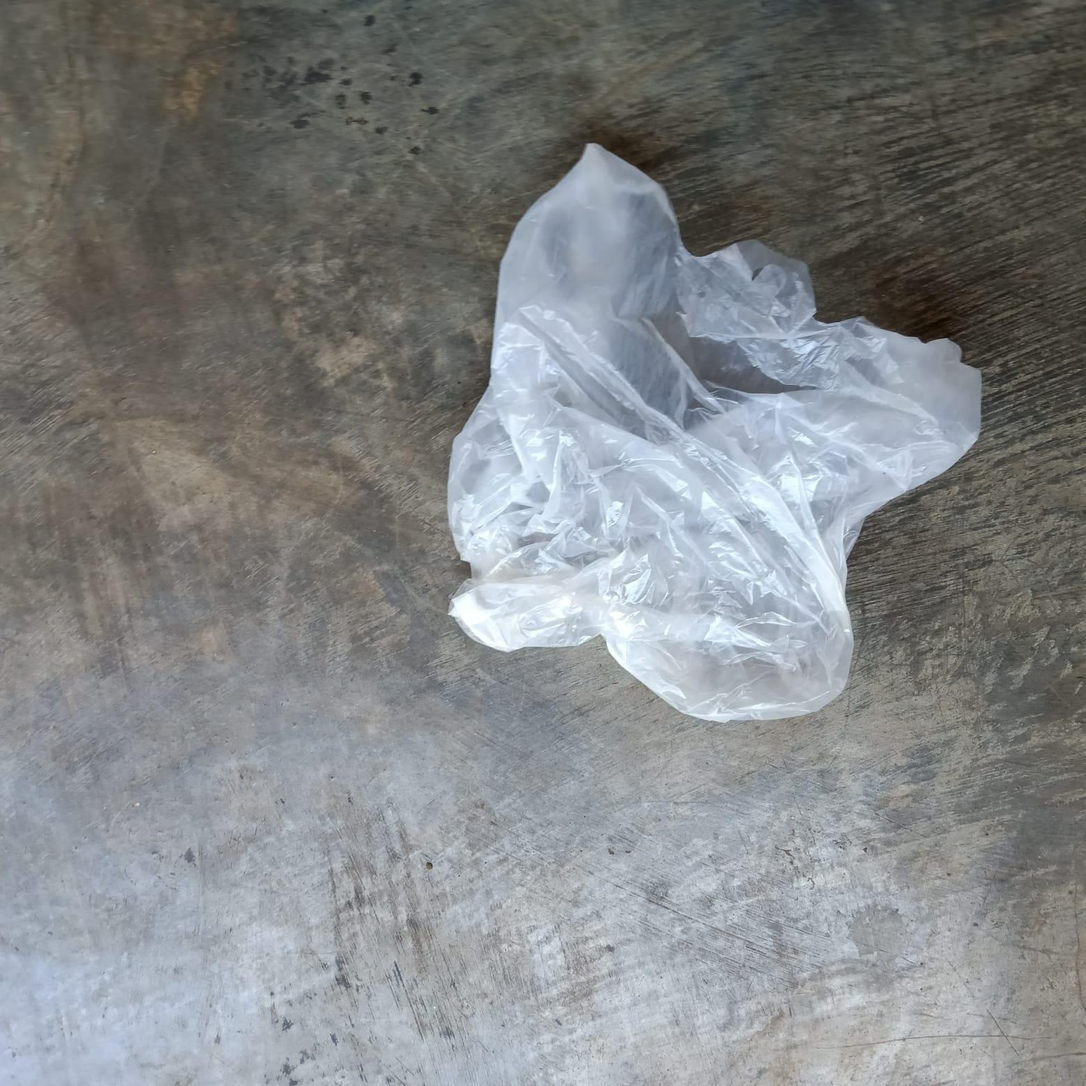Plastik: (446, 143, 985, 727)
